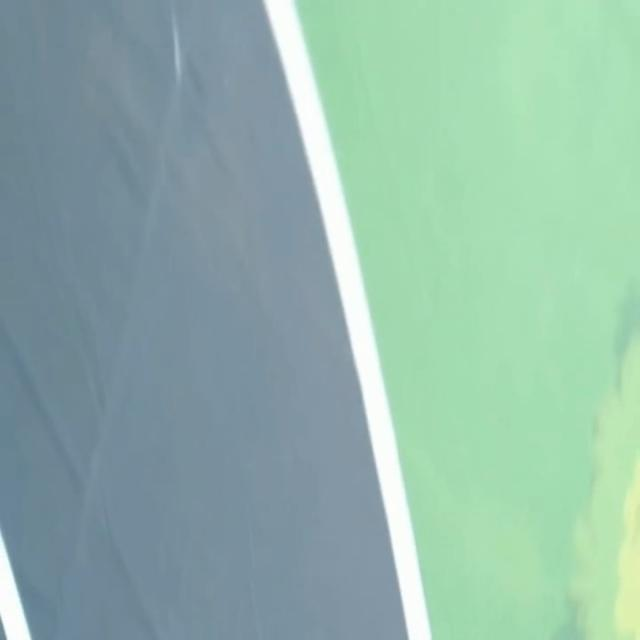right: (264, 0, 430, 639)
